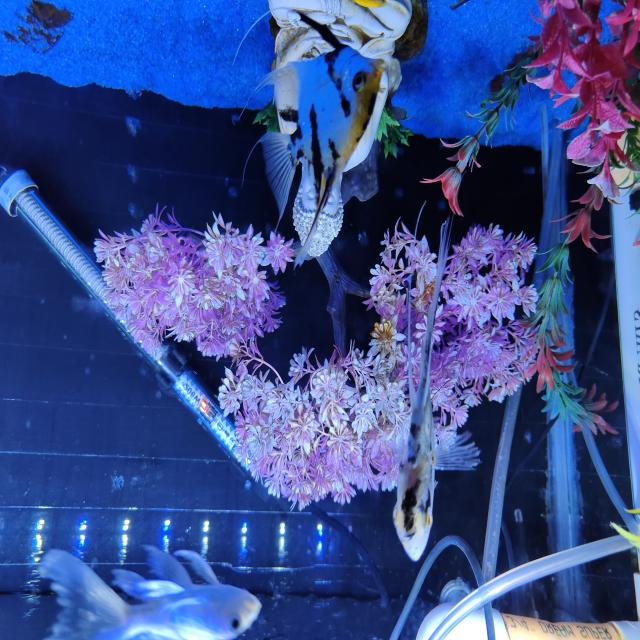Fish: (256, 29, 383, 263), (393, 216, 479, 559), (39, 545, 261, 639), (354, 0, 386, 6)
